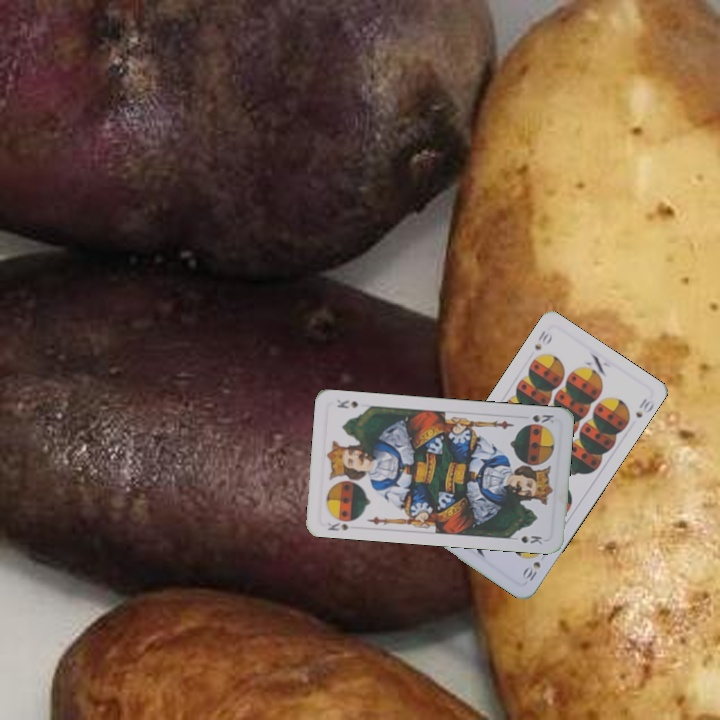S10: (518, 557, 543, 584), (530, 327, 555, 353)
SK: (528, 410, 556, 426), (323, 518, 351, 533)
